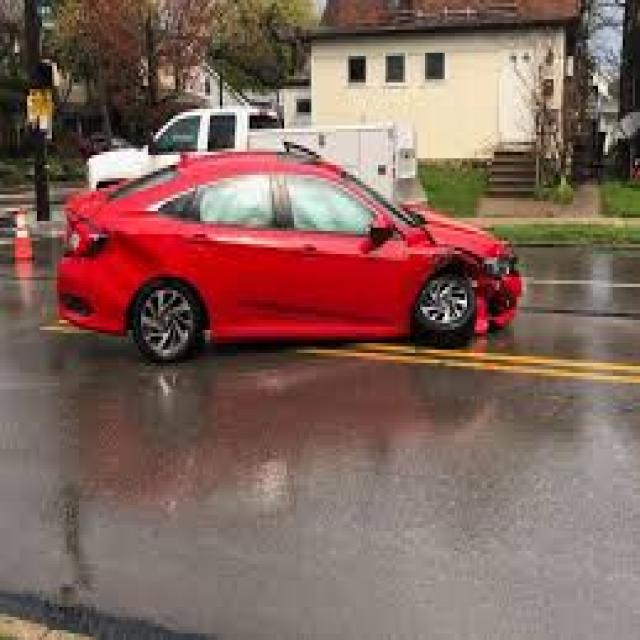accident: (47, 143, 534, 402)
